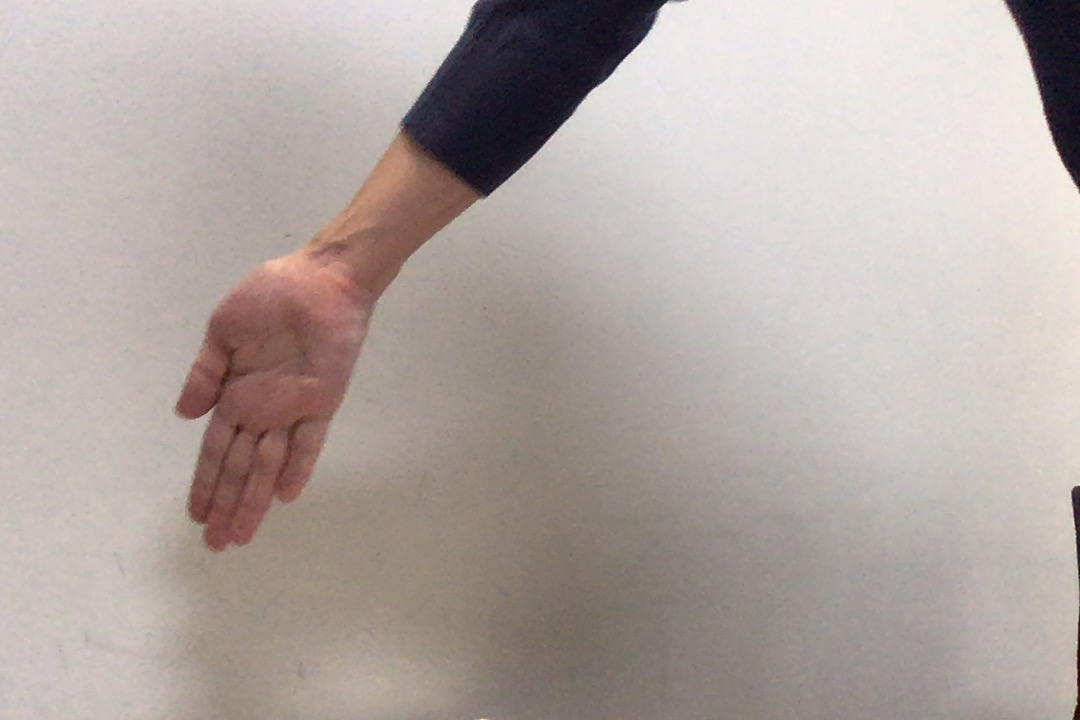palmhand: (171, 253, 369, 558)
